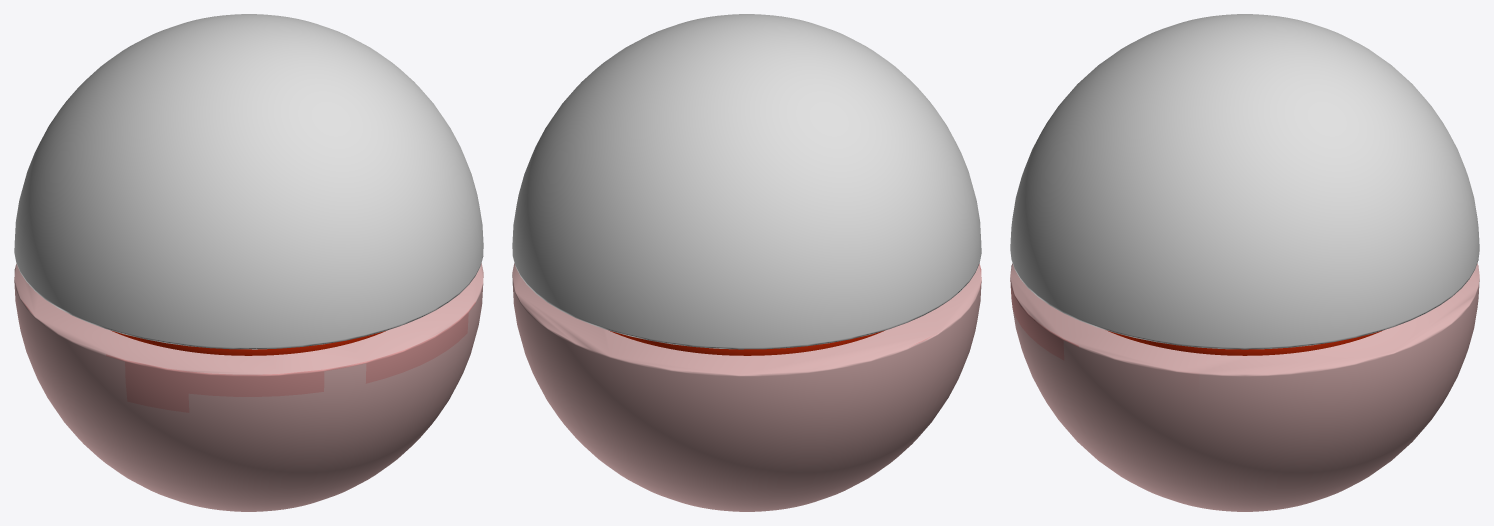
File: turretBot.dae
The picture shows the model from 3 angles, left to right: view 1: azimuth 30°, elevation 25°; view 2: azimuth 150°, elevation 25°; view 3: azimuth 270°, elevation 25°; orthographic projection.
Visible parts, largest first — view 1: Sphere, Sphere_001, Cylinder; view 2: Sphere, Sphere_001, Cylinder; view 3: Sphere, Sphere_001, Cylinder.
Boxes of the visible parts, x1,y1,x2,y2 form: Sphere: (14, 14, 483, 349); Sphere_001: (14, 263, 483, 511); Cylinder: (111, 330, 385, 355); Sphere: (512, 14, 981, 349); Sphere_001: (512, 263, 981, 511); Cylinder: (610, 330, 884, 355); Sphere: (1010, 14, 1479, 349); Sphere_001: (1010, 263, 1479, 511); Cylinder: (1107, 330, 1382, 355).
Size of the model in its own units: 2 by 2 by 2.14.
